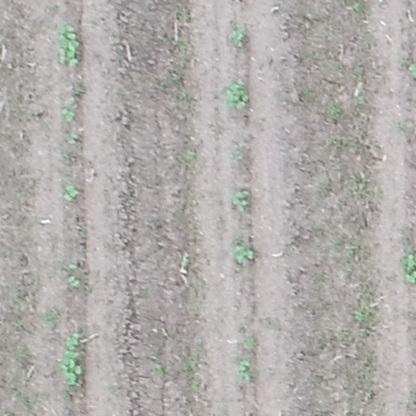vc: (61, 331, 86, 386), (58, 23, 80, 67), (225, 80, 251, 110), (231, 242, 258, 266), (231, 188, 251, 211), (236, 359, 255, 383), (62, 183, 80, 202), (229, 28, 246, 48), (60, 107, 76, 121), (64, 130, 78, 145), (66, 274, 78, 289)
